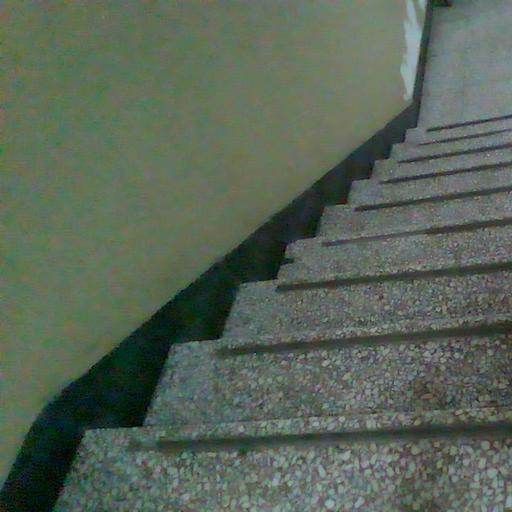stairs: (55, 0, 511, 511)
